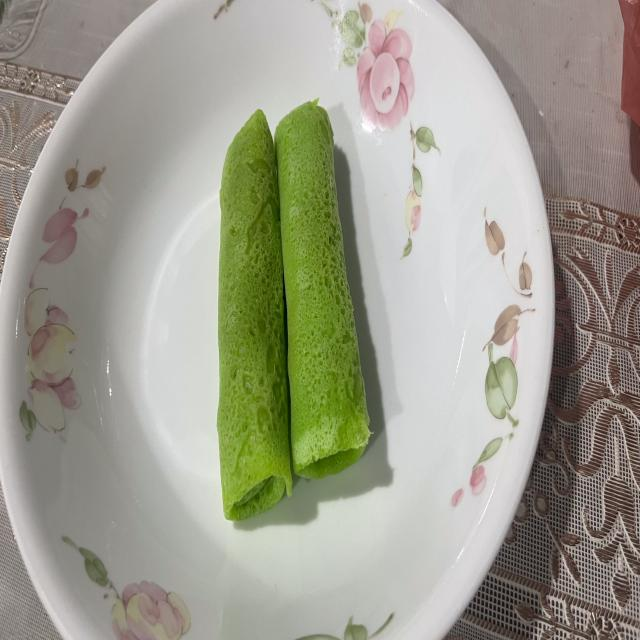Kuih-Ketayap: (275, 100, 370, 478), (218, 111, 292, 520)
